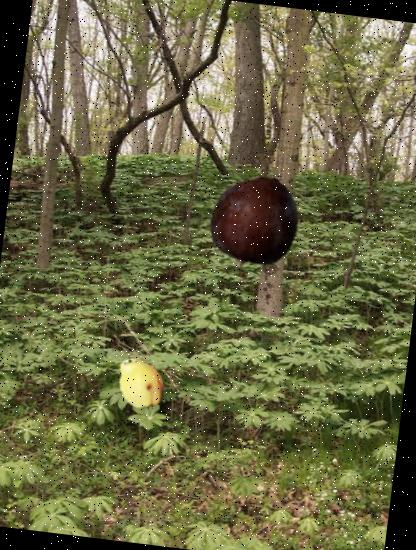Plum: (203, 169, 310, 276)
Quince: (110, 354, 171, 414)
